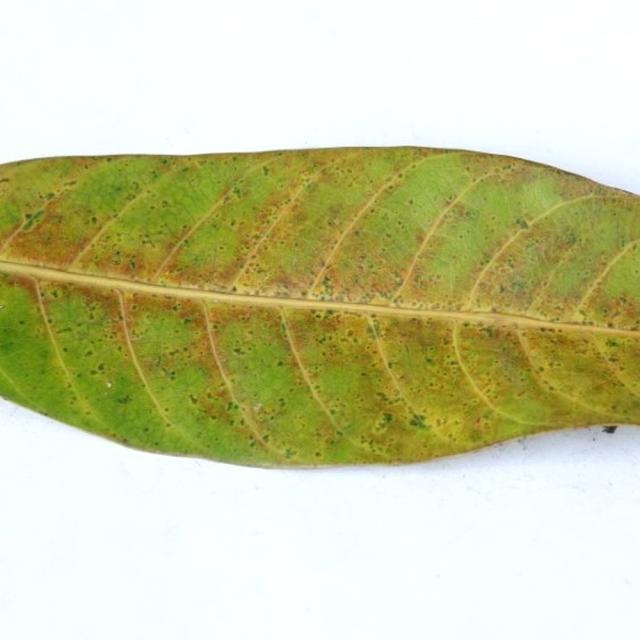Mango: (0, 147, 639, 465)
Powdery_Mildew: (299, 145, 530, 164), (9, 217, 79, 266), (405, 217, 488, 256), (404, 233, 466, 283), (524, 223, 581, 271), (315, 447, 456, 466), (15, 397, 86, 430), (151, 323, 199, 368), (131, 236, 180, 276), (225, 325, 269, 363), (491, 277, 540, 311), (0, 265, 37, 303), (392, 295, 458, 312), (601, 298, 638, 325), (257, 279, 300, 298), (11, 154, 82, 164), (310, 277, 340, 300), (404, 410, 435, 432), (309, 308, 345, 325), (33, 282, 51, 316), (615, 181, 639, 206), (21, 209, 45, 230), (583, 420, 621, 432), (323, 209, 344, 229), (367, 297, 400, 309), (296, 460, 334, 469), (614, 213, 624, 242), (378, 412, 394, 428), (0, 290, 11, 311), (367, 322, 380, 338), (320, 275, 333, 290), (564, 232, 578, 245), (511, 279, 525, 290), (480, 327, 494, 338), (579, 318, 596, 327), (516, 218, 529, 229), (63, 179, 78, 188), (550, 166, 565, 175), (56, 326, 72, 334), (116, 395, 130, 404), (605, 338, 619, 347), (231, 186, 242, 197), (362, 293, 374, 303), (578, 307, 588, 318), (345, 328, 356, 338), (285, 448, 295, 458), (228, 400, 238, 410), (392, 274, 402, 284), (444, 195, 454, 205), (45, 191, 56, 200), (189, 394, 198, 404), (49, 289, 59, 298), (395, 173, 404, 183), (262, 165, 270, 176), (550, 314, 561, 322), (96, 363, 105, 372), (115, 312, 124, 321), (131, 181, 140, 190), (128, 259, 136, 269), (489, 306, 499, 314), (320, 263, 329, 271), (167, 371, 176, 379), (263, 433, 271, 442), (90, 215, 98, 224), (0, 177, 10, 184), (247, 439, 255, 447), (329, 408, 337, 416), (230, 285, 238, 293), (254, 402, 262, 410), (396, 220, 404, 228), (130, 303, 138, 311), (498, 284, 505, 293), (233, 347, 242, 354), (39, 409, 48, 416), (353, 230, 361, 237), (314, 450, 321, 457), (606, 322, 614, 328), (121, 437, 128, 443), (106, 381, 112, 388), (408, 199, 414, 205), (0, 304, 6, 310), (19, 320, 26, 325), (63, 347, 68, 352)
